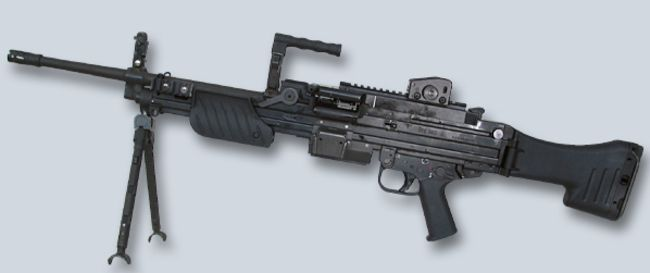rifle: (7, 18, 646, 269)
